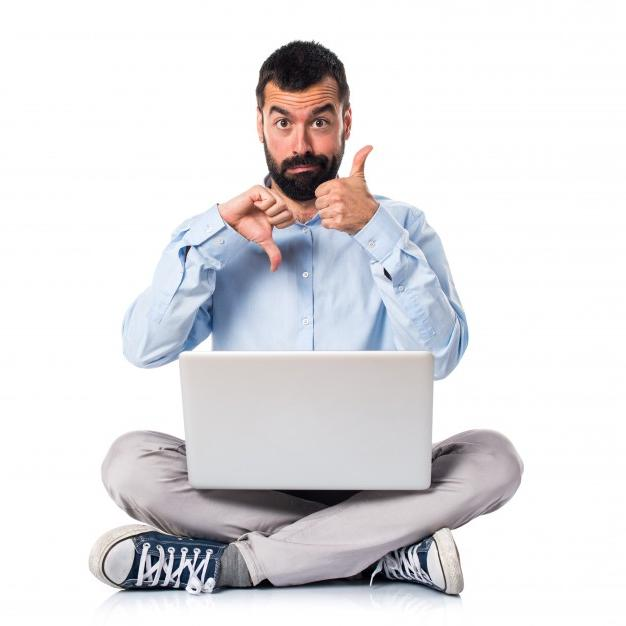thumbsup: (315, 144, 373, 229)
